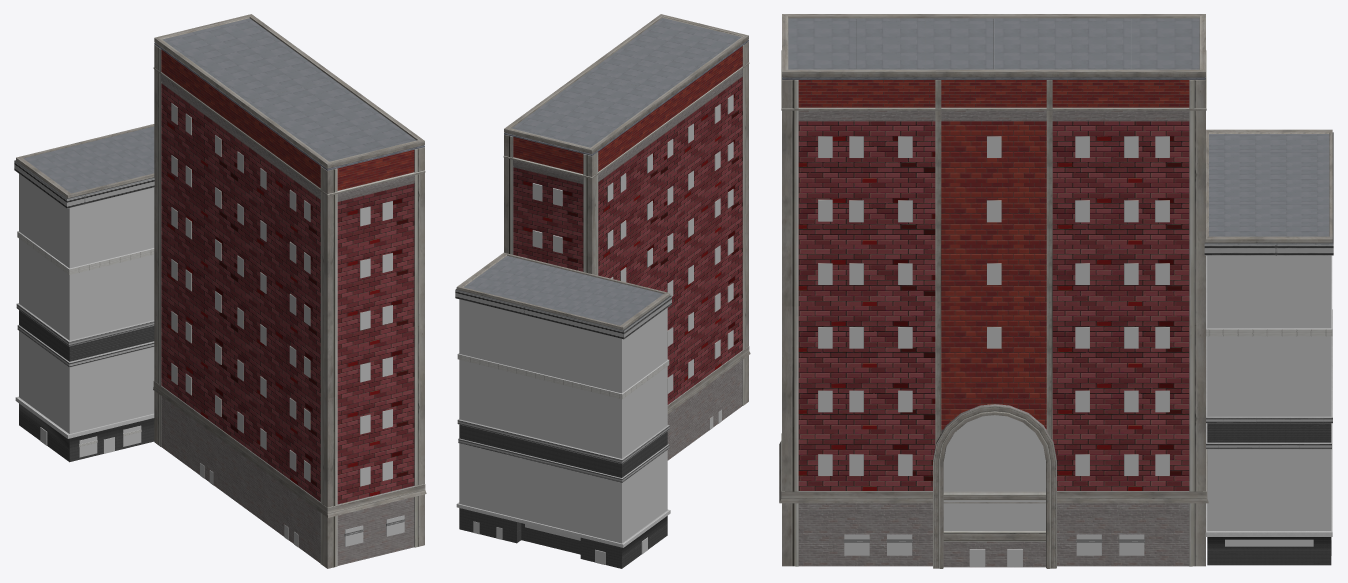
Rendered from HouseCN.fbx.
3 renders of one model, left to right at view 1: azimuth 30°, elevation 25°; view 2: azimuth 150°, elevation 25°; view 3: azimuth 270°, elevation 25°, orthographic. The views are drawn at different scales.
Visible parts, largest first — view 1: House_CN; view 2: House_CN; view 3: House_CN.
Boxes of the visible parts, x1=… form: House_CN: x1=14, y1=14, x2=426, y2=568; House_CN: x1=455, y1=14, x2=750, y2=568; House_CN: x1=779, y1=14, x2=1333, y2=568.
Size of what is drawn, in the model's own units: 34.17 by 69.98 by 71.02.
